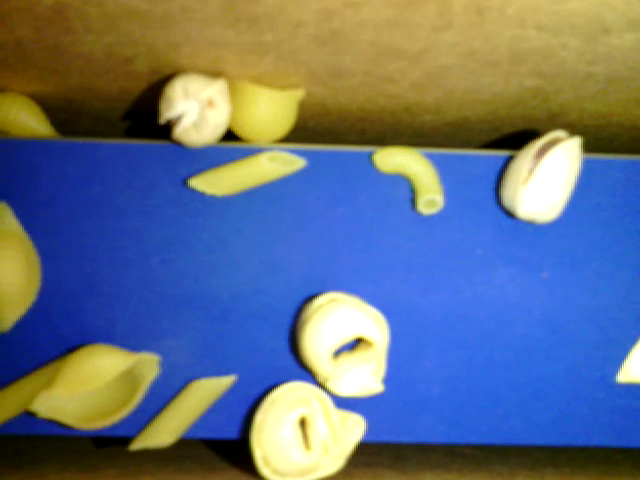elbow: (370, 145, 445, 217)
penne: (123, 373, 239, 450), (180, 149, 309, 198), (1, 353, 69, 431)
shell: (31, 341, 162, 433), (1, 200, 45, 336), (223, 80, 306, 145), (1, 92, 61, 139)
tortellini: (250, 379, 366, 479), (295, 292, 389, 399)
